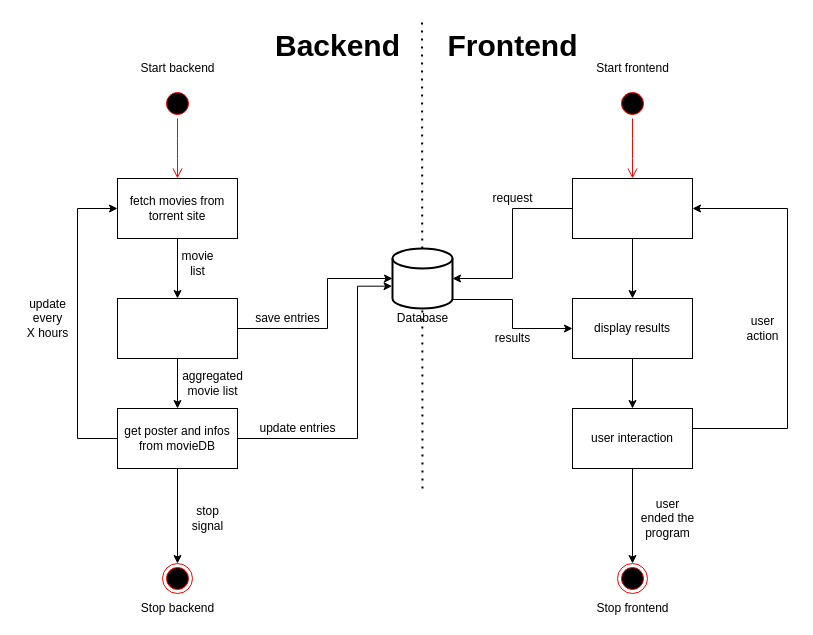
Image size: 813x635. Some labels were removed from this diagram. The centre of each missing label's shape, as x and y in pixels:
agregate by name: the point at 177,328
fetch/request movies from database: the point at 632,208
